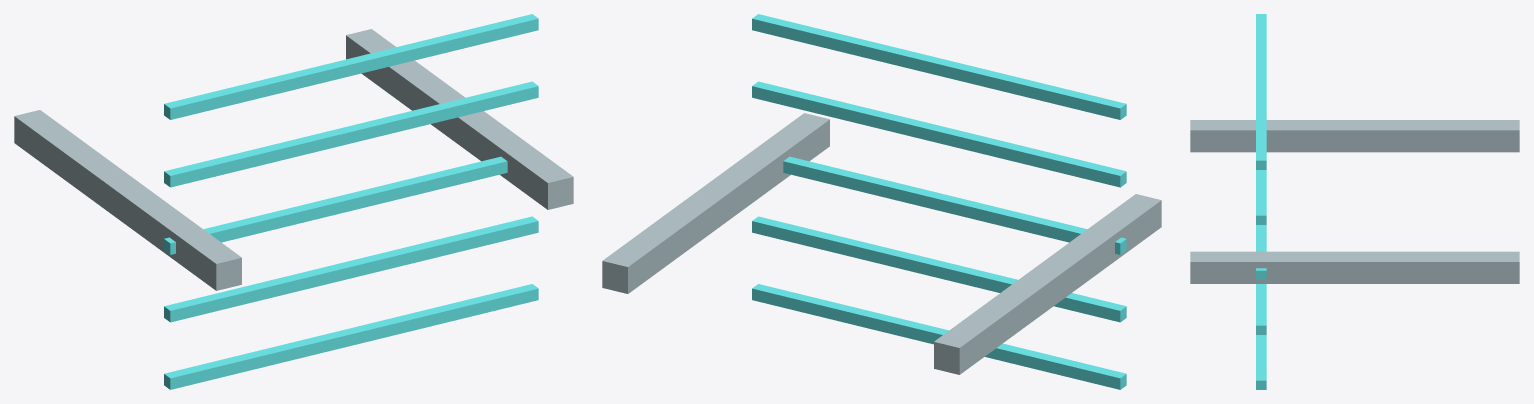
Rendered from drying-rack.glb.
The picture shows the model from 3 angles, left to right: view 1: azimuth 30°, elevation 25°; view 2: azimuth 150°, elevation 25°; view 3: azimuth 270°, elevation 25°; orthographic projection. The views are drawn at different scales.
Parts seen in each view (by area): view 1: world; view 2: world; view 3: world.
Part boxes in pixels (<box>): world: <box>14,14,573,389</box>; world: <box>602,14,1161,389</box>; world: <box>1190,14,1519,389</box>.
Size of the model in its own units: 1 by 0.73 by 0.95.
